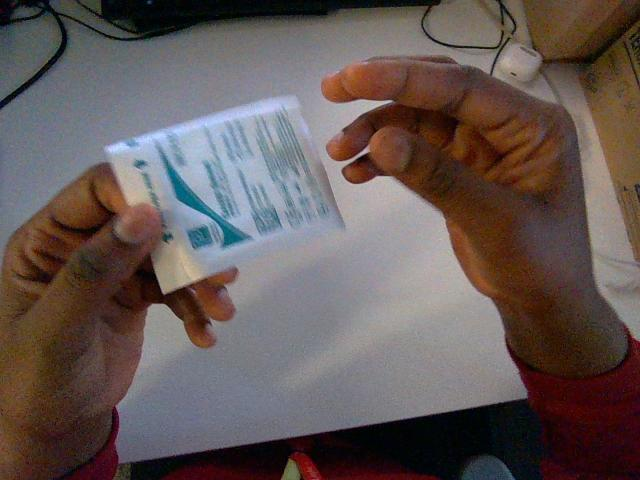gauze: (105, 96, 343, 292)
